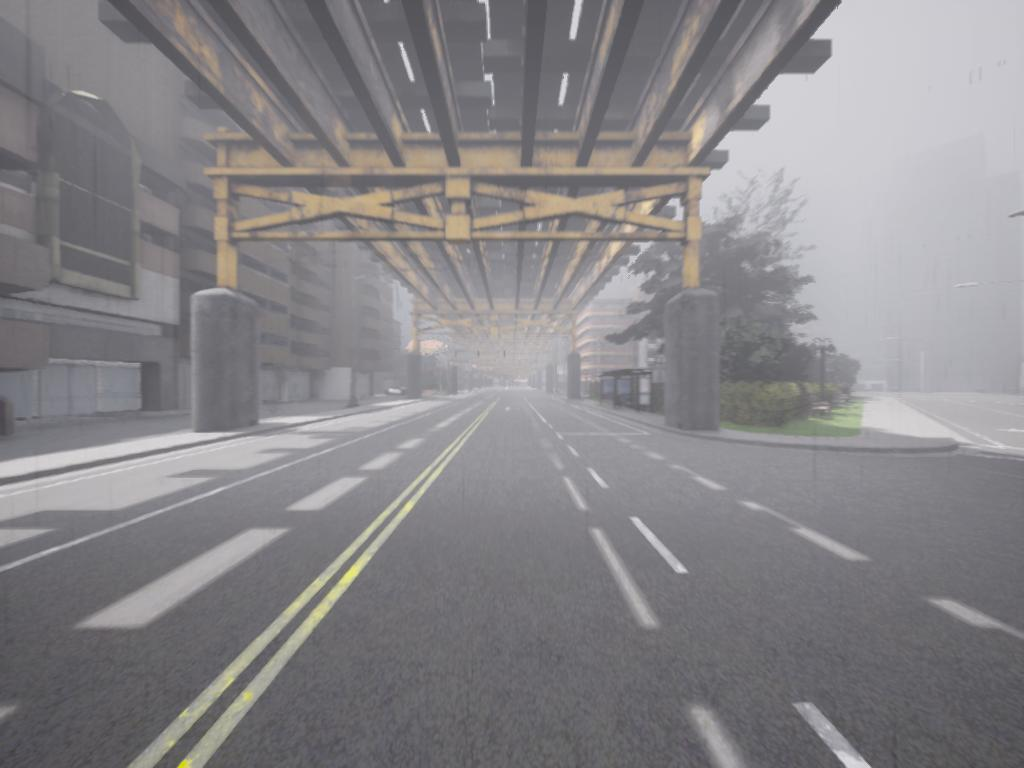traffic_light: (503, 350, 507, 358), (455, 351, 458, 358), (535, 357, 538, 363), (478, 351, 480, 358)
